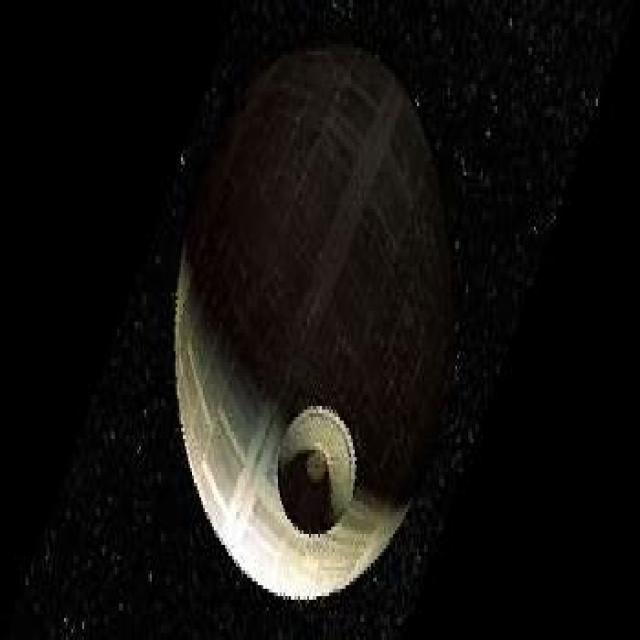Death Star: (168, 33, 457, 607)
